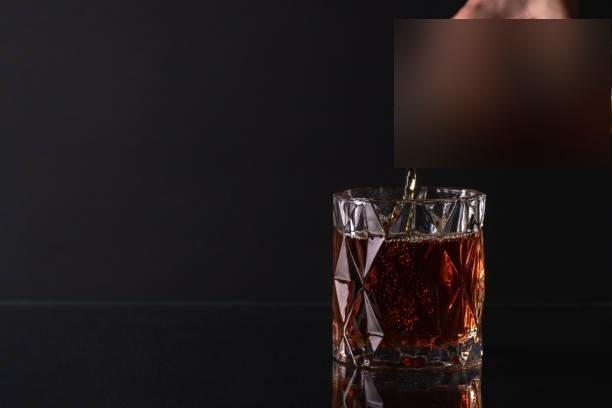glass-normal: (328, 184, 488, 407)
